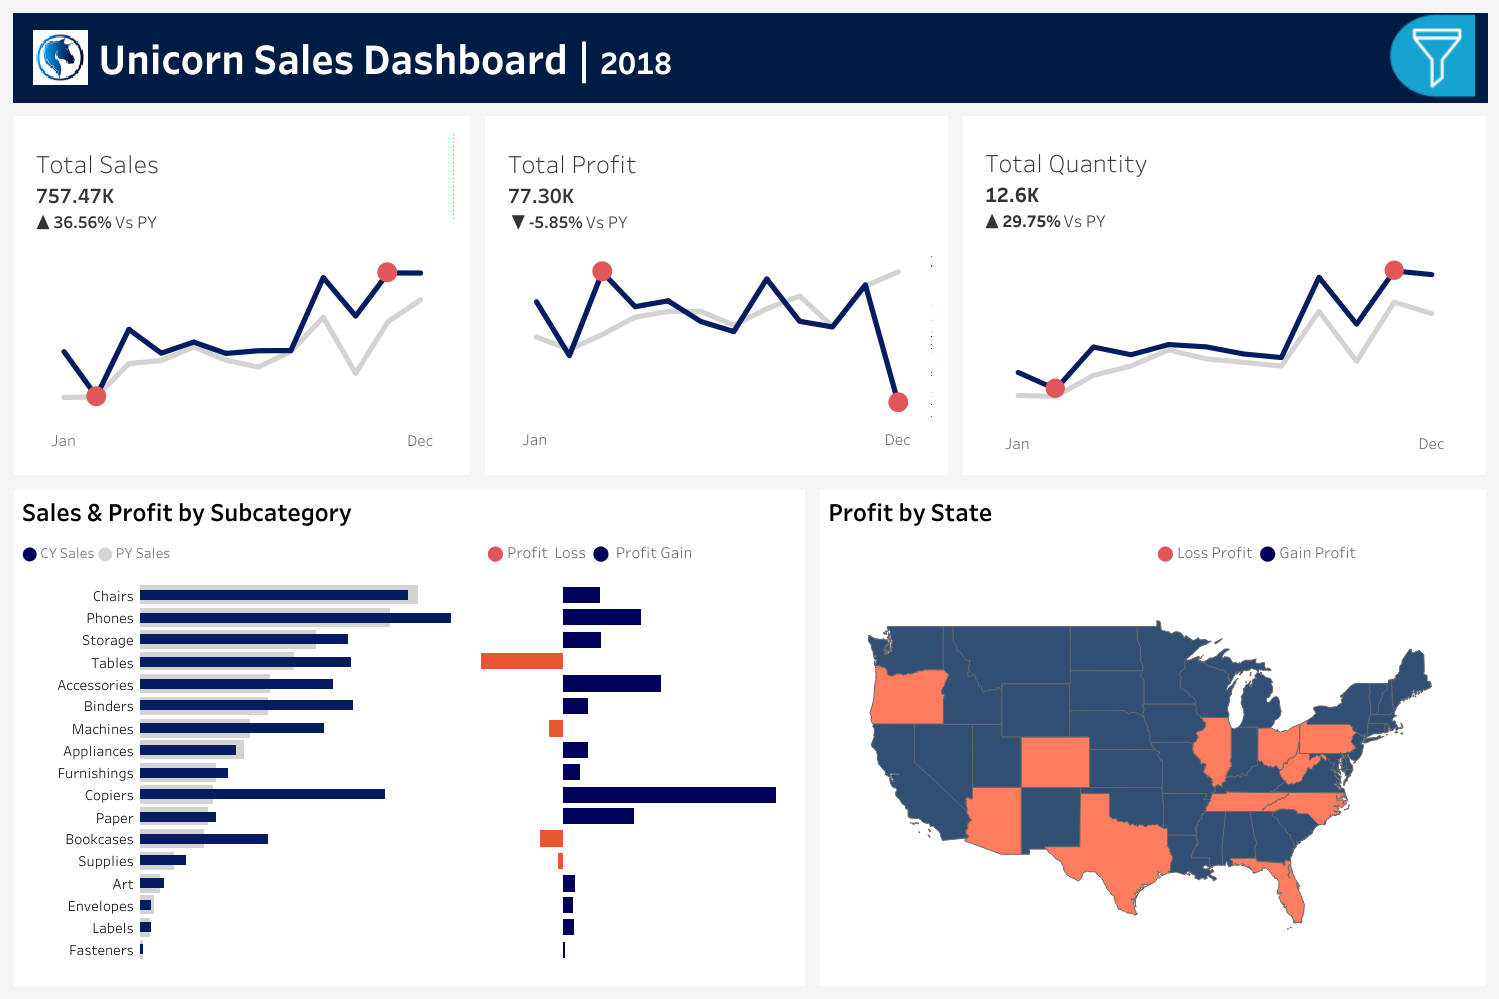

Layout of this report page (visuals, bound fields, positions):
{"tool":"tableau","page":{"name":"Dashboard Final","canvas":[1200,800],"ordinal":2},"visuals":[{"type":"dashboard-object","box":[1102,10,87,70]},{"type":"text","box":[20,20,1160,52]},{"type":"blank","box":[953,91,227,33]},{"type":"worksheet","title":"Profit_KPI","mark":"Automatic","box":[393,98,360,92.6]},{"type":"worksheet","title":"Qty_KPI","mark":"Automatic","box":[775,98,409,98.6]},{"type":"worksheet","title":"Sales_KPI","mark":"Automatic","box":[21,103,345,97]},{"type":"text","box":[953,124,227,40]},{"type":"parameter","param":"[Parameters].[Parameter 1]","box":[953,164,227,56]},{"type":"worksheet","title":"Trend_profit","mark":"Automatic","rows":["Calculation_1748241087178719248"],"cols":["Order Date"],"box":[393,190.6,360,184.4]},{"type":"worksheet","title":"Trend_qty","mark":"Automatic","rows":["Calculation_1748241087179313169"],"cols":["Order Date"],"box":[775,196.6,409,178.4]},{"type":"worksheet","title":"Trend_Sales","mark":"Automatic","rows":["Calculation_1748241087127724047"],"cols":["Order Date"],"box":[21,200,345,170]},{"type":"blank","box":[953,220,227,35]},{"type":"text","box":[953,255,227,36]},{"type":"filter","title":"Sales_KPI","param":"[federated.0xn7j7b08p90b81275y720wrn2kx].[none:Category:nk]","box":[953,291,227,61]},{"type":"filter","title":"Sales_KPI","param":"[federated.0xn7j7b08p90b81275y720wrn2kx].[none:sub category:nk]","box":[953,352,227,61]},{"type":"worksheet","title":"Sales & Profit ","mark":"Bar","rows":["sub category"],"cols":["Calculation_1748241086963646469","Calculation_1748241086962814978","Calculation_1748241086963179523"],"box":[0,386,711,413.9]},{"type":"text","box":[717,392,472,32]},{"type":"blank","box":[953,413,227,35]},{"type":"blank","box":[717,424,172,32]},{"type":"legend","title":"map","param":"[federated.0xn7j7b08p90b81275y720wrn2kx].[sum:Calculation_1748241086963179523:qk","box":[889,424,300,32]},{"type":"text","box":[953,448,227,36]},{"type":"worksheet","title":"map","mark":"Automatic","box":[717,456,472,332.9]},{"type":"filter","title":"Sales_KPI","param":"[federated.0xn7j7b08p90b81275y720wrn2kx].[none:Region:nk]","box":[953,484,227,61]},{"type":"filter","title":"Sales_KPI","param":"[federated.0xn7j7b08p90b81275y720wrn2kx].[none:State:nk]","box":[953,545,227,61]},{"type":"filter","title":"Sales_KPI","param":"[federated.0xn7j7b08p90b81275y720wrn2kx].[none:City:nk]","box":[953,606,227,61]}]}

Visuals, with their boxes in screenshot pixels (x1, y1, x2, y2), scaled from the page's 1200x800 canvas onto the 1499x999 screenshot:
dashboard-object: 1377:12:1485:100
text: 25:25:1474:90
blank: 1190:114:1474:155
"Profit_KPI" worksheet: 491:122:941:238
"Qty_KPI" worksheet: 968:122:1479:246
"Sales_KPI" worksheet: 26:129:457:250
text: 1190:155:1474:205
parameter: 1190:205:1474:275
"Trend_profit" worksheet: 491:238:941:468
"Trend_qty" worksheet: 968:246:1479:468
"Trend_Sales" worksheet: 26:250:457:462
blank: 1190:275:1474:318
text: 1190:318:1474:363
"Sales_KPI" filter: 1190:363:1474:440
"Sales_KPI" filter: 1190:440:1474:516
"Sales & Profit " worksheet (Bar marks): 0:482:888:998
text: 896:490:1485:529
blank: 1190:516:1474:559
blank: 896:529:1111:569
"map" legend: 1111:529:1485:569
text: 1190:559:1474:604
"map" worksheet: 896:569:1485:985
"Sales_KPI" filter: 1190:604:1474:681
"Sales_KPI" filter: 1190:681:1474:757
"Sales_KPI" filter: 1190:757:1474:833
